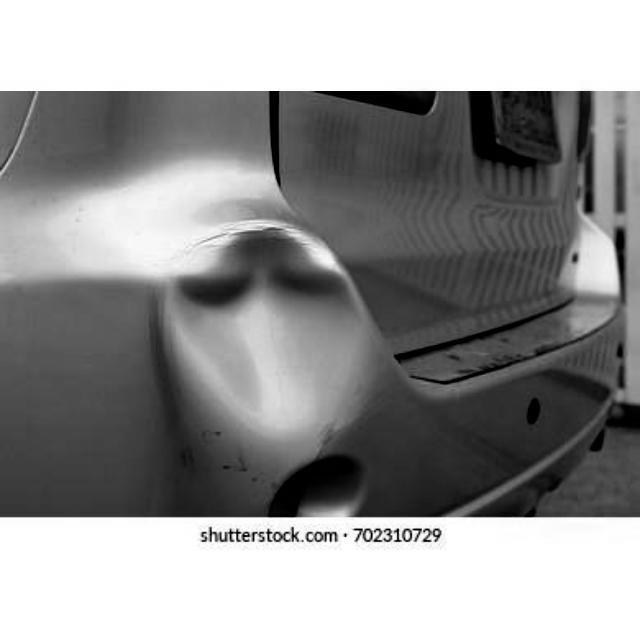rear-bumper-dent: (153, 205, 389, 456)
